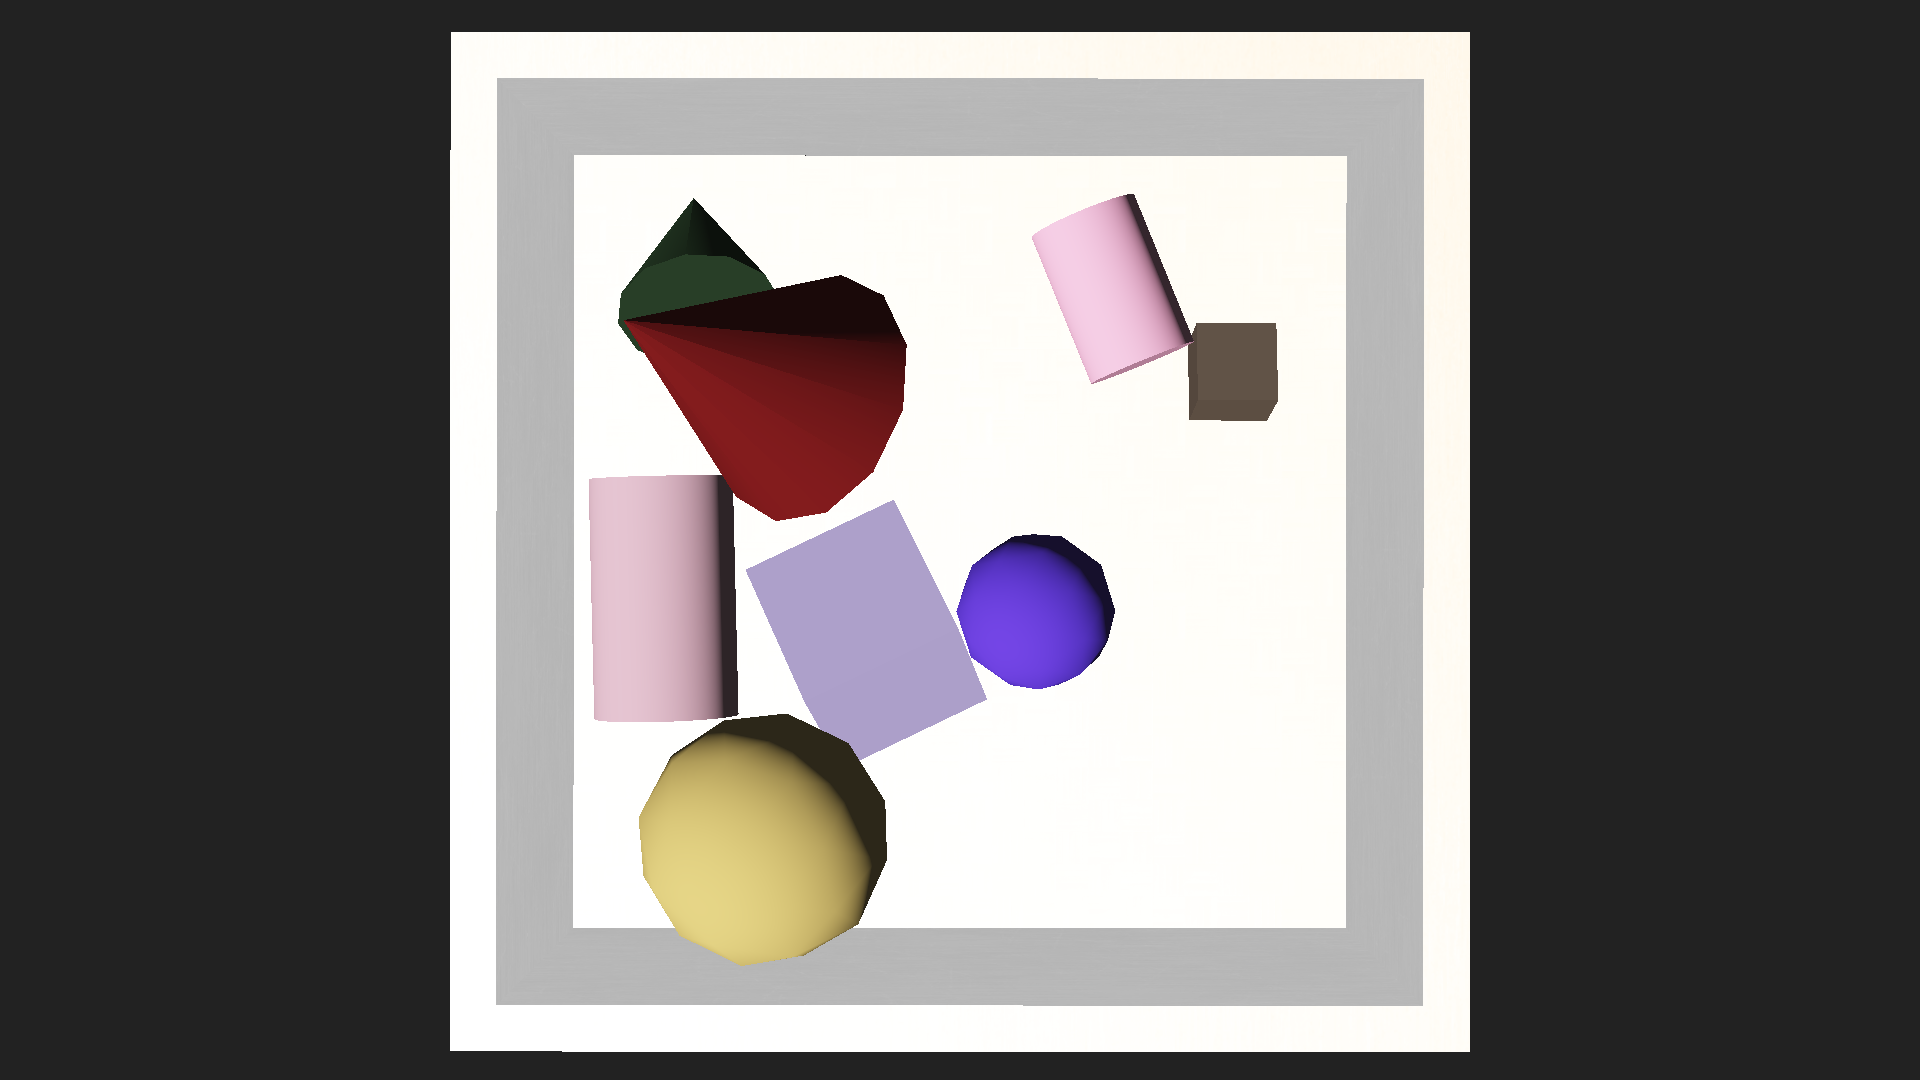3: (737, 497, 989, 782), (1185, 320, 1278, 422)
cone: (578, 473, 745, 723), (1030, 186, 1199, 386)
cylinder: (464, 117, 930, 562)
sphere: (636, 711, 890, 965), (955, 530, 1116, 690)
